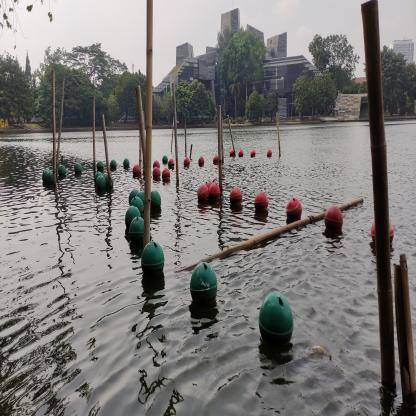green_buoy: (258, 290, 295, 351), (189, 260, 218, 307), (140, 240, 167, 278), (128, 217, 146, 244), (124, 205, 141, 229), (129, 197, 144, 214), (151, 190, 162, 211), (128, 188, 140, 204), (96, 176, 106, 193), (104, 174, 114, 189), (135, 191, 145, 204), (58, 164, 67, 176), (46, 172, 54, 185), (42, 170, 49, 184), (94, 172, 102, 184), (110, 158, 117, 171), (96, 160, 104, 171), (74, 163, 82, 174), (123, 158, 130, 168), (162, 155, 168, 164)
red_buoy: (370, 218, 395, 249), (324, 204, 345, 236), (286, 197, 303, 223), (228, 187, 243, 207), (254, 191, 268, 212), (198, 184, 209, 202), (209, 182, 220, 200), (152, 167, 161, 179), (162, 168, 171, 180), (132, 164, 140, 176), (184, 156, 191, 168), (204, 181, 212, 191), (168, 157, 174, 170), (153, 159, 160, 170), (208, 178, 217, 186), (212, 154, 218, 165), (266, 148, 272, 158), (198, 156, 204, 166), (250, 149, 256, 158), (238, 150, 244, 158), (229, 148, 234, 156)
